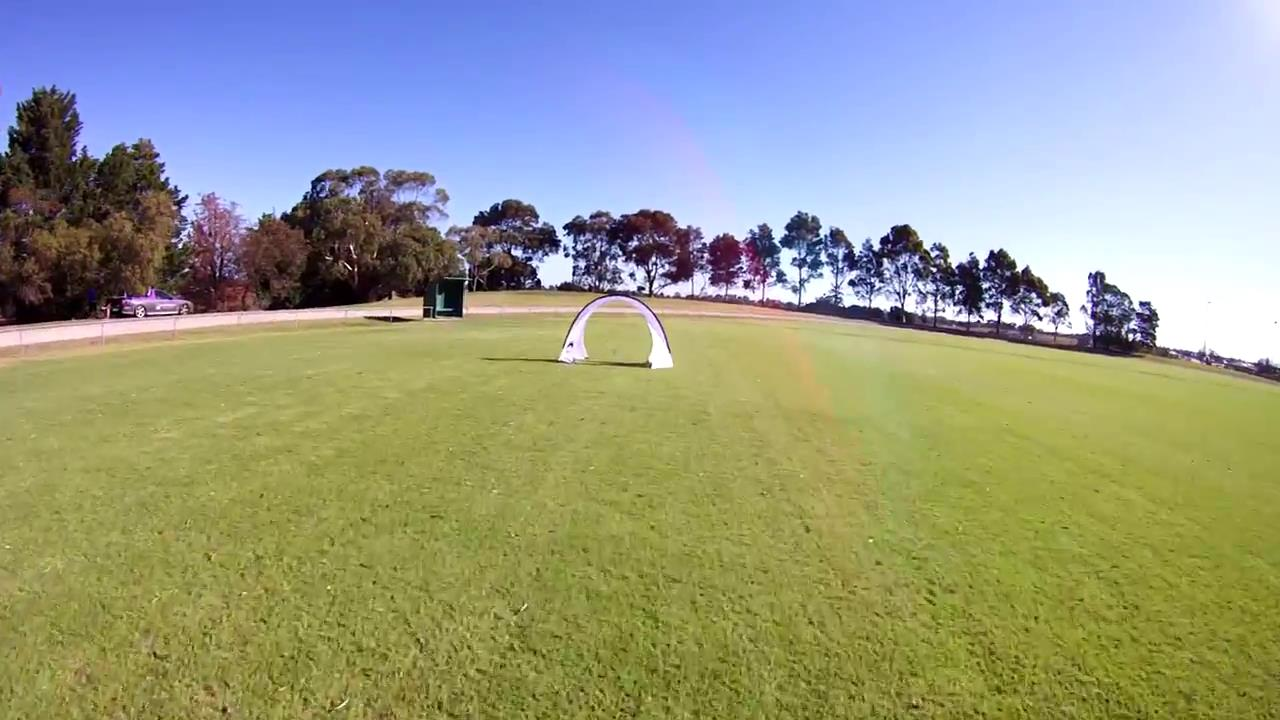gate: (553, 292, 678, 371)
